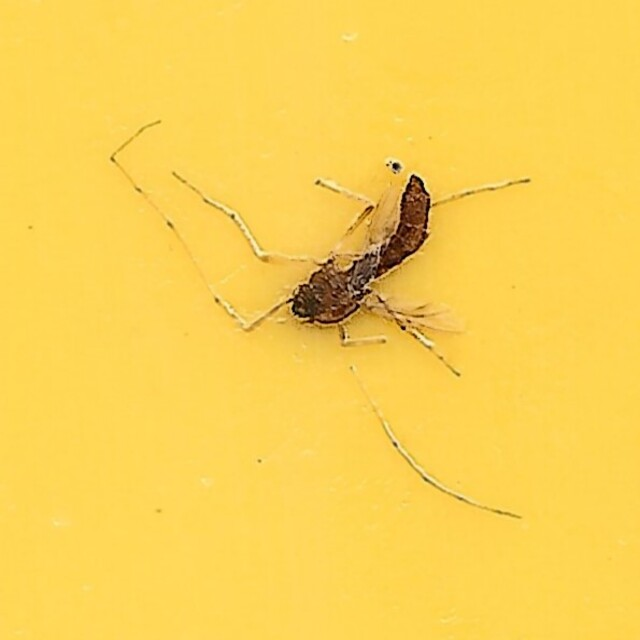Nematocera: (108, 112, 532, 528)
